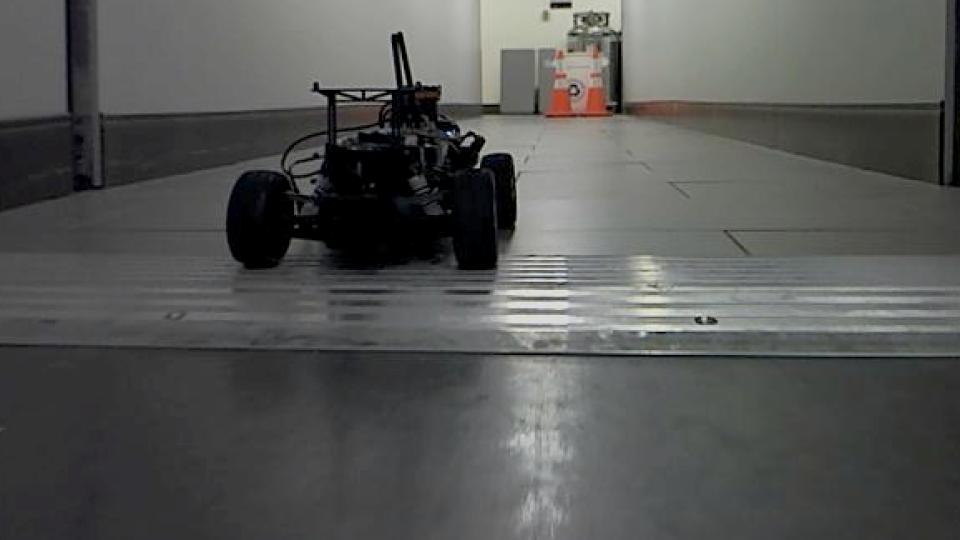car: (223, 28, 523, 275)
